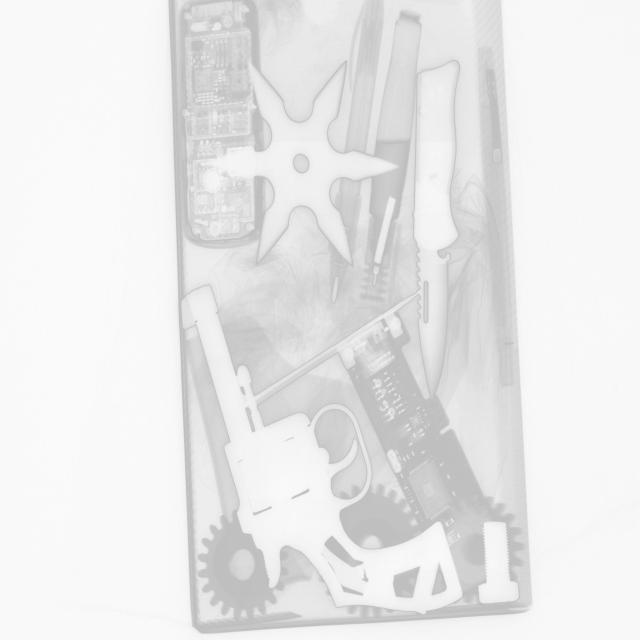knife: (410, 56, 463, 402)
pistol: (182, 284, 462, 615)
